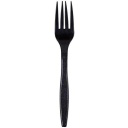Fork: (47, 2, 85, 128)
